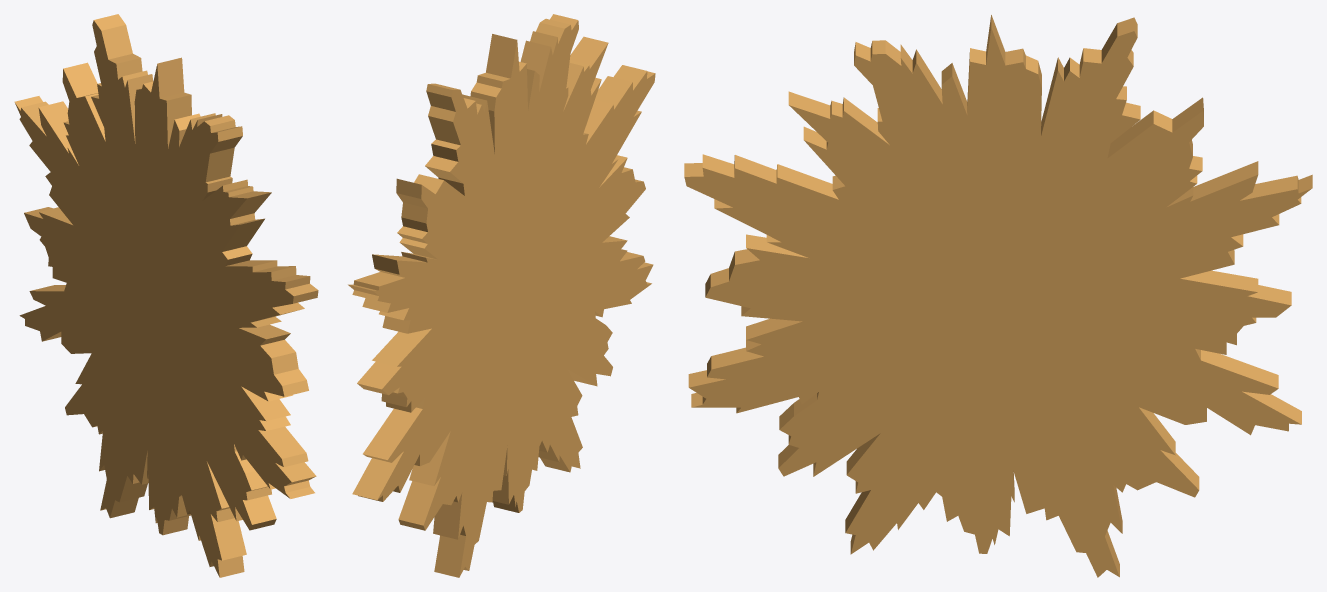
File: Light Mirror (1).fbx
The picture shows the model from 3 angles, left to right: view 1: azimuth 30°, elevation 25°; view 2: azimuth 150°, elevation 25°; view 3: azimuth 270°, elevation 25°; orthographic projection. The views are drawn at different scales.
Parts seen in each view (by area): view 1: Cube.002; view 2: Cube.002; view 3: Cube.002.
Boxes of the visible parts, box(x1,y1,x2,y2) form: Cube.002: box(14, 14, 318, 577); Cube.002: box(348, 14, 655, 577); Cube.002: box(684, 15, 1312, 577).
Bounding box in the file's own units: 28.76 × 544 × 562.
